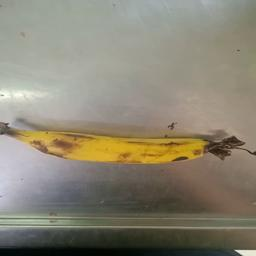Banana Semirotten: (3, 116, 256, 168)
